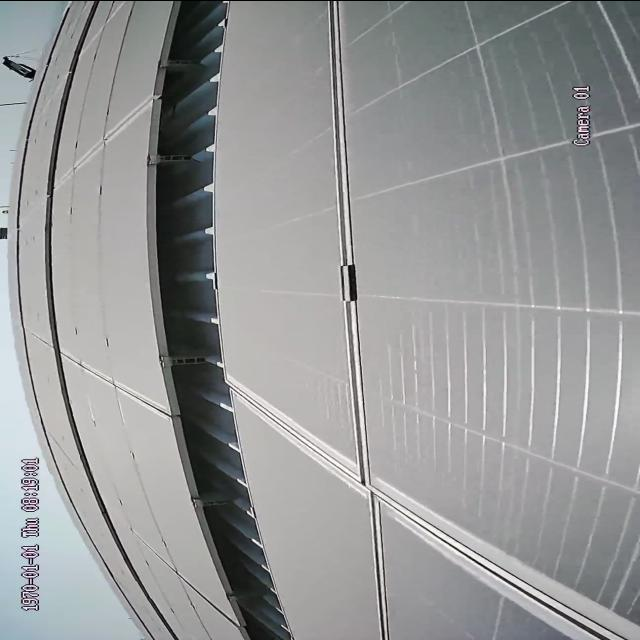interior panel: (242, 0, 637, 640), (65, 101, 140, 184), (69, 353, 162, 419)
outher panel: (151, 1, 296, 640)
